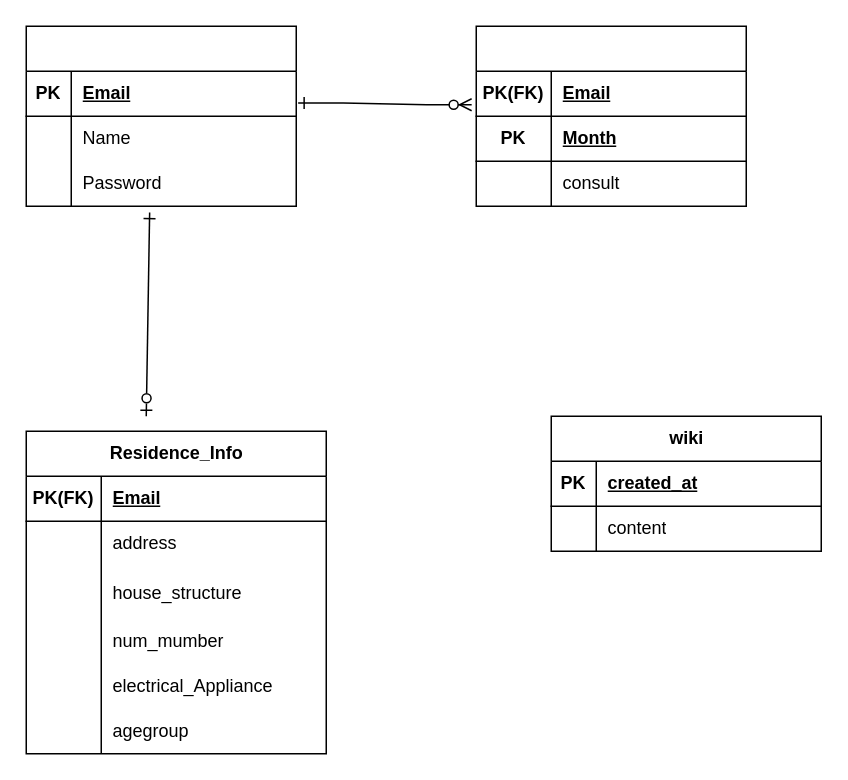
This 848x780 diagram has some shape labels left out. The box of each missing label's shape, as (x1, y1, x2, y2) in pixels:
User: (25, 25, 296, 206)
UserInfo: (475, 25, 746, 206)
